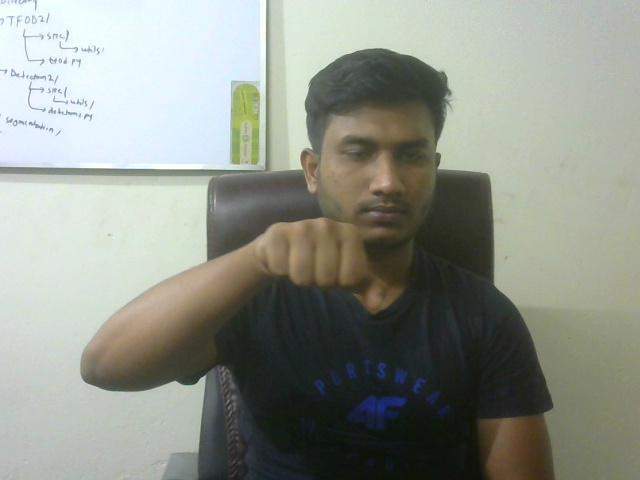Yes: (254, 210, 399, 332)
